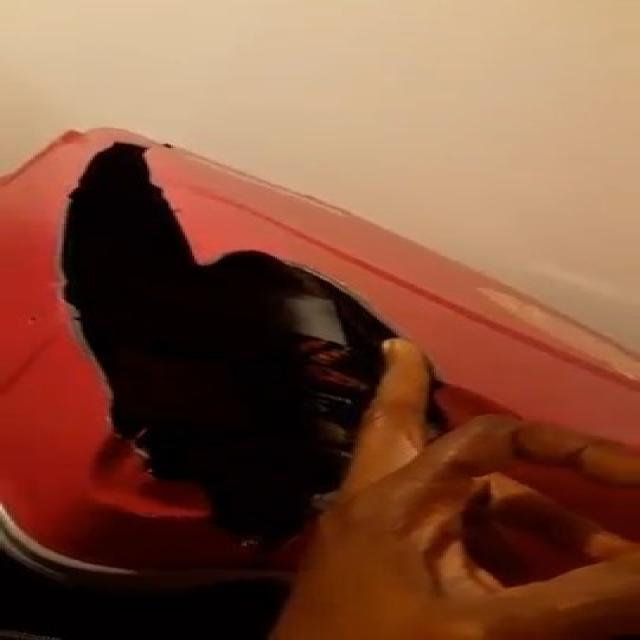Damage-bag: (60, 142, 393, 551), (429, 382, 509, 432)
